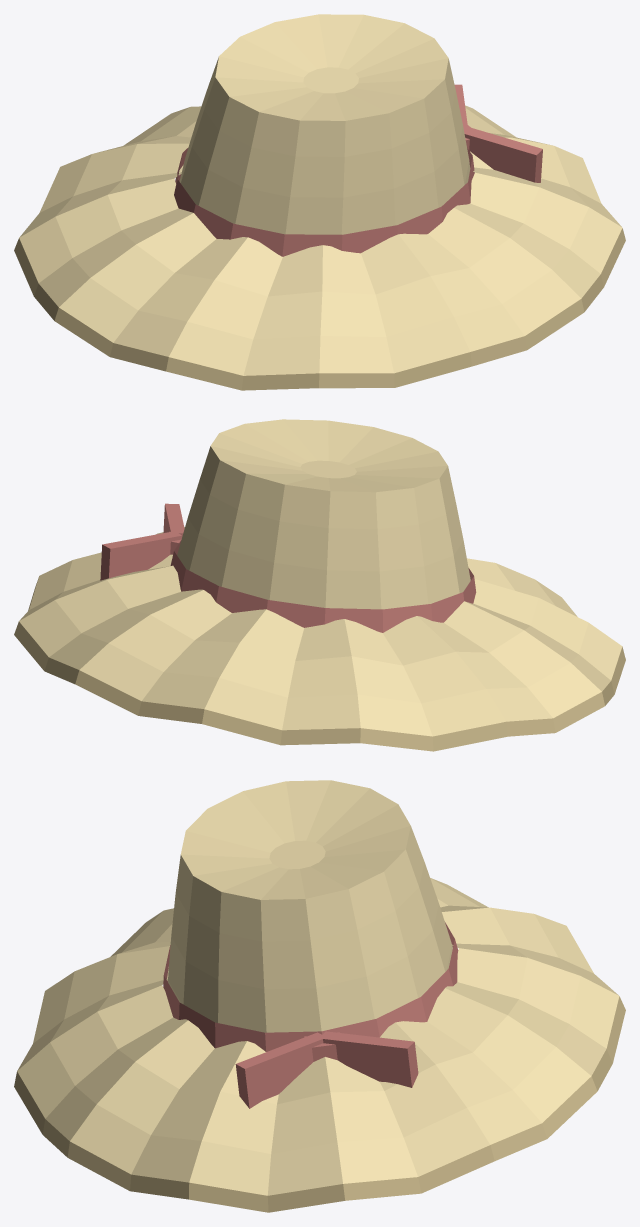
The model's file is 19-NPCs_sombrero_paja.glb.
3 views of the same model, one above another, from view 1: azimuth 30°, elevation 25°; view 2: azimuth 150°, elevation 25°; view 3: azimuth 270°, elevation 25° (orthographic). The views are drawn at different scales.
Parts seen in each view (by area): view 1: SM_NPC_M_paja, SM_NPC_M_paja_osc, SM_NPC_M_cinta; view 2: SM_NPC_M_paja, SM_NPC_M_paja_osc, SM_NPC_M_cinta; view 3: SM_NPC_M_paja, SM_NPC_M_cinta, SM_NPC_M_paja_osc.
Boxes of the visible parts, <box> form: SM_NPC_M_paja: <box>19,14,622,375</box>; SM_NPC_M_paja_osc: <box>14,228,625,390</box>; SM_NPC_M_cinta: <box>174,84,542,256</box>; SM_NPC_M_paja: <box>19,419,622,736</box>; SM_NPC_M_paja_osc: <box>14,579,625,751</box>; SM_NPC_M_cinta: <box>100,503,476,632</box>; SM_NPC_M_paja: <box>17,780,619,1195</box>; SM_NPC_M_cinta: <box>163,922,458,1108</box>; SM_NPC_M_paja_osc: <box>14,996,625,1212</box>.
Size of the model in its own units: 0.6093 by 0.2425 by 0.5171.
